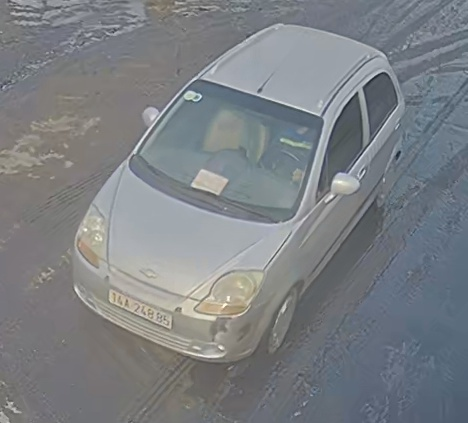vehicle plate: (105, 283, 176, 330)
